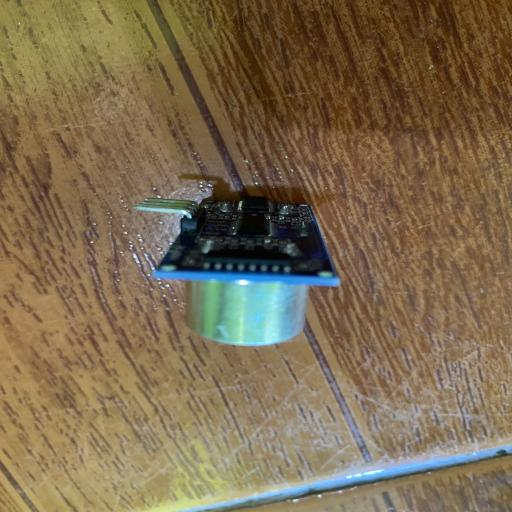Ultrasonic Sensor: (132, 193, 342, 347)
